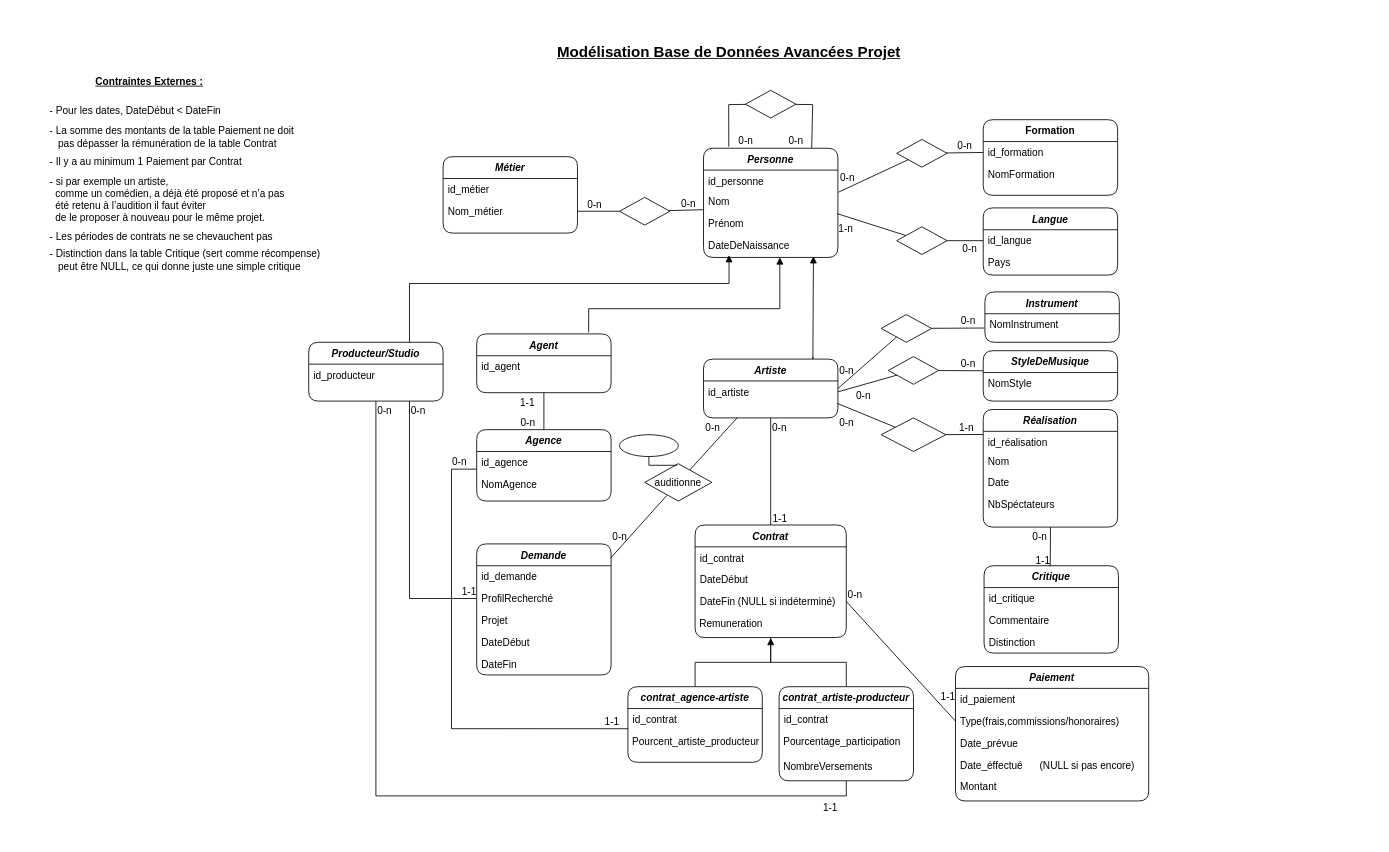
Image size: 1389x852. Some labels were removed from this diagram. The centre of each missing label's shape, as x and y in pixels:
"a fait" belongs at (921,153).
"a participé" belongs at (913,434).
"connaît" belongs at (770,103).
"exerce" belongs at (644,211).
"joue" belongs at (913,370).
"maîtrise" belongs at (906,328).
"parle" belongs at (921,240).
"Réponse" belongs at (648,445).
